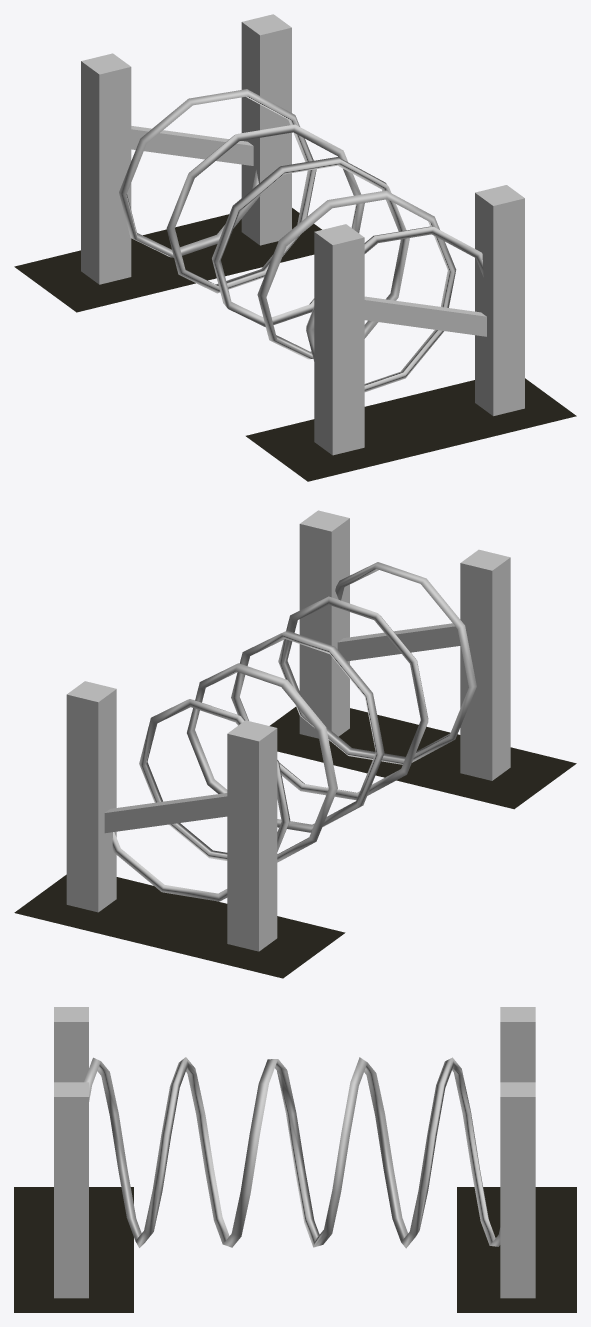
Rendered from Meshwire_01.FBX.
The picture shows the model from 3 angles, top to bottom: view 1: azimuth 30°, elevation 25°; view 2: azimuth 150°, elevation 25°; view 3: azimuth 270°, elevation 25°; orthographic projection. The views are drawn at different scales.
Parts seen in each view (by area): view 1: Helix001, Plane033; view 2: Helix001, Plane033; view 3: Helix001, Plane033.
Boxes of the visible parts, <box> form: Helix001: <box>81,14,524,455</box>; Plane033: <box>14,208,576,481</box>; Helix001: <box>66,510,510,951</box>; Plane033: <box>14,707,576,978</box>; Helix001: <box>54,1007,535,1298</box>; Plane033: <box>14,1187,576,1312</box>.
Bounding box in the file's own units: 135 × 104 × 256.
